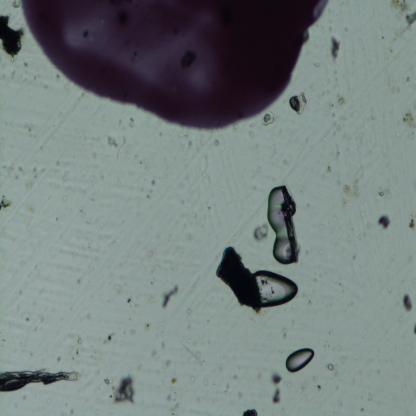Air bubble: (268, 184, 290, 264), (256, 270, 298, 309), (284, 347, 314, 374)
Background material: (0, 14, 24, 60), (388, 0, 416, 26), (114, 373, 136, 405), (13, 195, 36, 223), (159, 283, 180, 310), (287, 93, 308, 117), (12, 164, 37, 184), (343, 177, 362, 202), (182, 344, 203, 365), (270, 372, 282, 405), (322, 160, 337, 185), (329, 34, 340, 65), (252, 223, 269, 242), (375, 212, 391, 229), (260, 110, 276, 127), (330, 115, 344, 134), (403, 112, 416, 132), (0, 191, 12, 212), (73, 335, 83, 356), (402, 294, 412, 315), (379, 186, 390, 201), (220, 381, 233, 393), (107, 136, 118, 148), (242, 408, 258, 416), (336, 95, 346, 107), (104, 332, 114, 344), (408, 216, 414, 234), (161, 360, 174, 368), (141, 323, 152, 332), (126, 295, 132, 308), (327, 363, 334, 372), (171, 376, 178, 384), (412, 323, 416, 336), (150, 350, 156, 358)
Cellulose filter fibre: (0, 366, 79, 390), (282, 187, 298, 267)
Fragment: (216, 246, 262, 312)
Pen: (20, 0, 330, 133)
